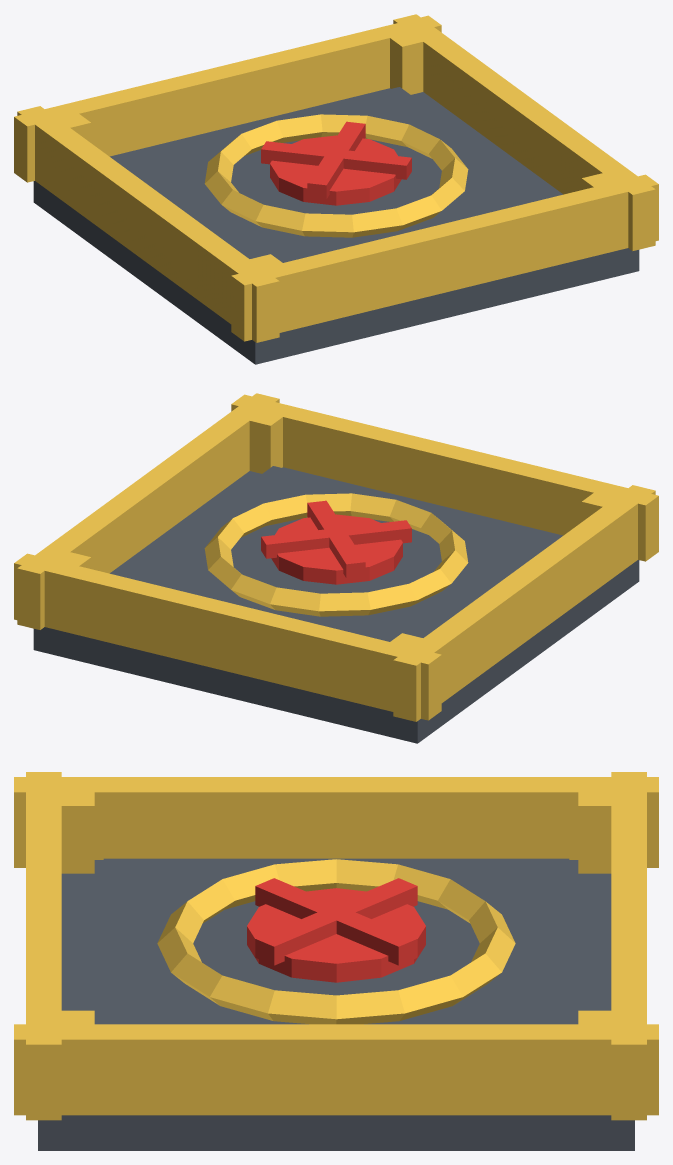
The model's file is TD_BaseTile.fbx.
3 views of the same model, one above another, from view 1: azimuth 30°, elevation 25°; view 2: azimuth 150°, elevation 25°; view 3: azimuth 270°, elevation 25° (orthographic). The views are drawn at different scales.
Visible parts, largest first — view 1: TD_BaseTile_Rail_South, TD_BaseTile_Surface, TD_BaseTile_Rail_North, TD_BaseTile_Rail_West, TD_BaseTile_BasePlate, TD_BaseTile_Rail_East, TD_BaseTile_ShieldGoldRing, TD_BaseTile_RedCore, TD_BaseTile_WarningX_B, TD_BaseTile_Corner_NE, TD_BaseTile_WarningX_A, TD_BaseTile_Corner_NW (+1 smaller); view 2: TD_BaseTile_Rail_North, TD_BaseTile_Surface, TD_BaseTile_Rail_South, TD_BaseTile_Rail_West, TD_BaseTile_BasePlate, TD_BaseTile_Rail_East, TD_BaseTile_ShieldGoldRing, TD_BaseTile_RedCore, TD_BaseTile_WarningX_A, TD_BaseTile_Corner_SE, TD_BaseTile_WarningX_B, TD_BaseTile_Corner_NE (+2 smaller); view 3: TD_BaseTile_Rail_East, TD_BaseTile_Rail_West, TD_BaseTile_Surface, TD_BaseTile_BasePlate, TD_BaseTile_ShieldGoldRing, TD_BaseTile_Rail_North, TD_BaseTile_Rail_South, TD_BaseTile_RedCore, TD_BaseTile_WarningX_A, TD_BaseTile_WarningX_B, TD_BaseTile_Corner_NW, TD_BaseTile_Corner_SW (+2 smaller).
Boxes of the visible parts, <box> form: TD_BaseTile_Rail_South: <box>231,174,658,341</box>; TD_BaseTile_Surface: <box>111,87,550,262</box>; TD_BaseTile_Rail_North: <box>14,15,441,182</box>; TD_BaseTile_Rail_West: <box>17,106,279,342</box>; TD_BaseTile_BasePlate: <box>33,88,639,364</box>; TD_BaseTile_Rail_East: <box>393,14,655,250</box>; TD_BaseTile_ShieldGoldRing: <box>204,114,468,237</box>; TD_BaseTile_RedCore: <box>270,135,401,205</box>; TD_BaseTile_WarningX_B: <box>261,141,411,179</box>; TD_BaseTile_Corner_NE: <box>383,24,436,94</box>; TD_BaseTile_WarningX_A: <box>307,121,365,199</box>; TD_BaseTile_Corner_NW: <box>37,108,91,142</box>; TD_BaseTile_Rail_North: <box>14,553,441,720</box>; TD_BaseTile_Surface: <box>122,466,561,641</box>; TD_BaseTile_Rail_South: <box>231,394,658,561</box>; TD_BaseTile_Rail_West: <box>393,485,655,721</box>; TD_BaseTile_BasePlate: <box>33,467,639,743</box>; TD_BaseTile_Rail_East: <box>17,393,279,629</box>; TD_BaseTile_ShieldGoldRing: <box>204,493,468,616</box>; TD_BaseTile_RedCore: <box>271,514,402,584</box>; TD_BaseTile_WarningX_A: <box>261,520,411,558</box>; TD_BaseTile_Corner_SE: <box>249,406,290,473</box>; TD_BaseTile_WarningX_B: <box>307,500,365,578</box>; TD_BaseTile_Corner_NE: <box>37,549,91,571</box>; TD_BaseTile_Rail_East: <box>14,1024,658,1115</box>; TD_BaseTile_Rail_West: <box>14,777,658,867</box>; TD_BaseTile_Surface: <box>103,858,569,1024</box>; TD_BaseTile_BasePlate: <box>38,860,634,1150</box>; TD_BaseTile_ShieldGoldRing: <box>157,859,515,1024</box>; TD_BaseTile_Rail_North: <box>611,772,646,1120</box>; TD_BaseTile_Rail_South: <box>26,772,61,1120</box>; TD_BaseTile_RedCore: <box>247,888,425,982</box>; TD_BaseTile_WarningX_A: <box>255,878,417,965</box>; TD_BaseTile_WarningX_B: <box>255,878,417,965</box>; TD_BaseTile_Corner_NW: <box>578,783,631,873</box>; TD_BaseTile_Corner_SW: <box>41,792,94,873</box>.
Bounding box in the file's own units: 108 × 21.5 × 108.
